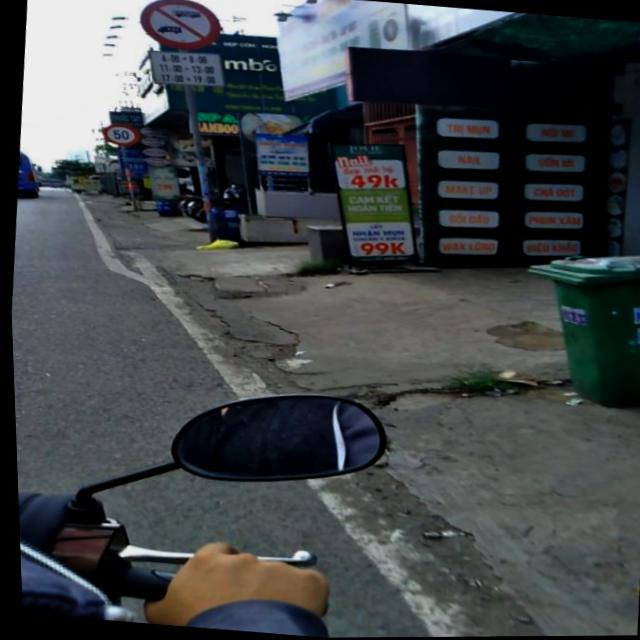Toc do toi da cho phep: (99, 121, 142, 147)
